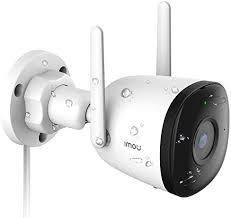tutu: (91, 74, 229, 198)
